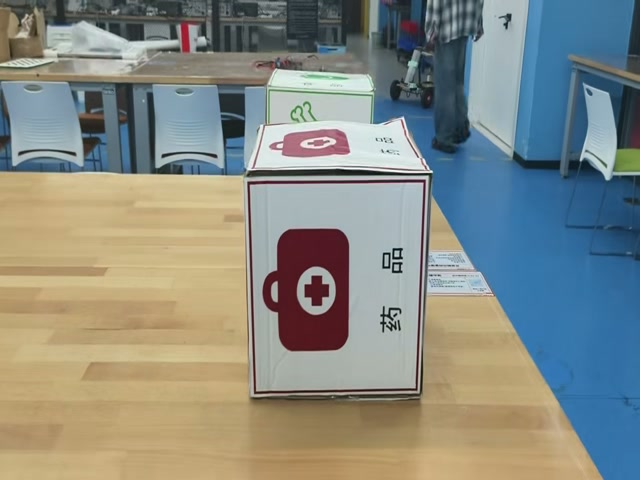Cube_food: (267, 64, 374, 95)
Cube_medicine: (242, 117, 430, 179)
